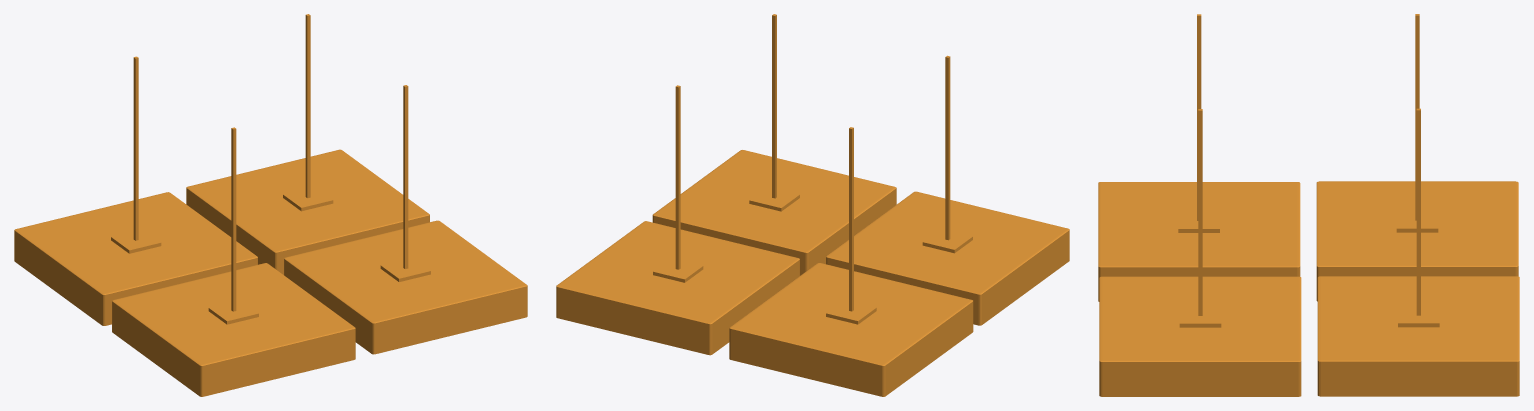
Rendered from lamp4.gltf.
3 renders of one model, left to right at view 1: azimuth 30°, elevation 25°; view 2: azimuth 150°, elevation 25°; view 3: azimuth 270°, elevation 25°, orthographic. The views are drawn at different scales.
Parts seen in each view (by area): view 1: lamp4; view 2: lamp4; view 3: lamp4.
Boxes of the visible parts, x1,y1,x2,y2 form: lamp4: [14, 14, 527, 396]; lamp4: [556, 14, 1069, 396]; lamp4: [1098, 14, 1519, 396].
Size of the model in its own units: 4.23 by 2.67 by 4.17.
